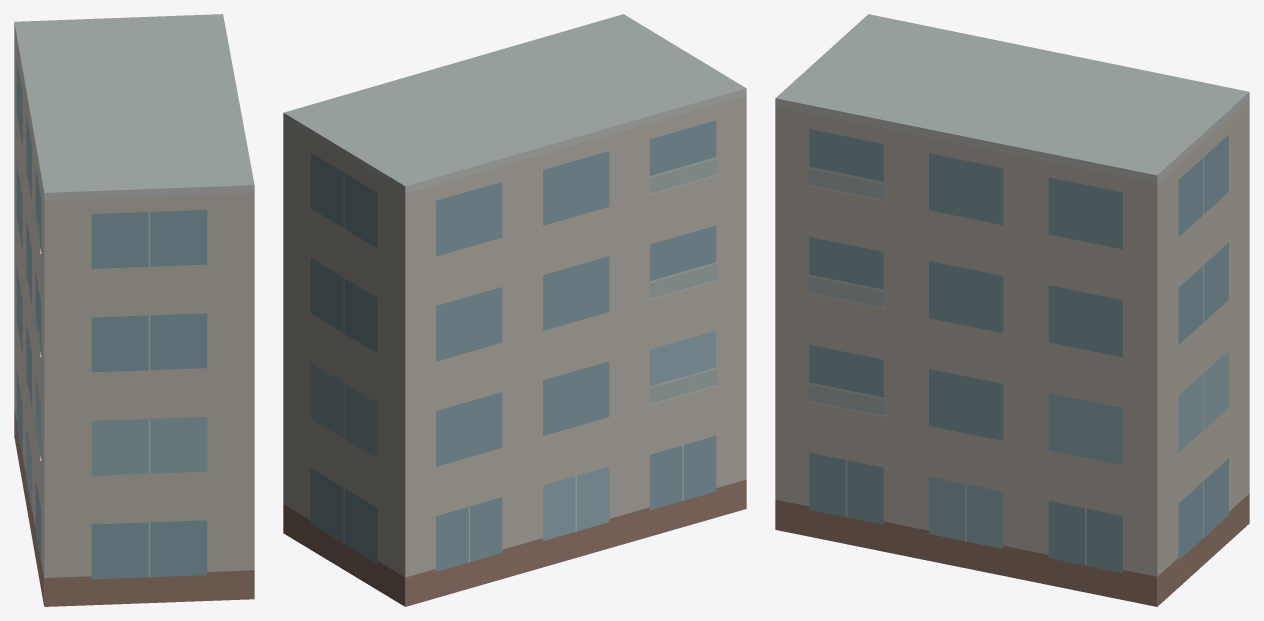
The model's file is survey-upis-32727121.glb.
3 views of the same model, side by side, from view 1: azimuth 30°, elevation 25°; view 2: azimuth 150°, elevation 25°; view 3: azimuth 270°, elevation 25° (orthographic). The views are drawn at different scales.
Visible parts, largest first — view 1: survey-upis-32727121.tmp; view 2: survey-upis-32727121.tmp; view 3: survey-upis-32727121.tmp.
Boxes of the visible parts, x1,y1,x2,y2 form: survey-upis-32727121.tmp: [14, 14, 254, 606]; survey-upis-32727121.tmp: [283, 14, 746, 606]; survey-upis-32727121.tmp: [775, 14, 1249, 606].
Size of the model in its own units: 10.64 by 13.25 by 13.21.
